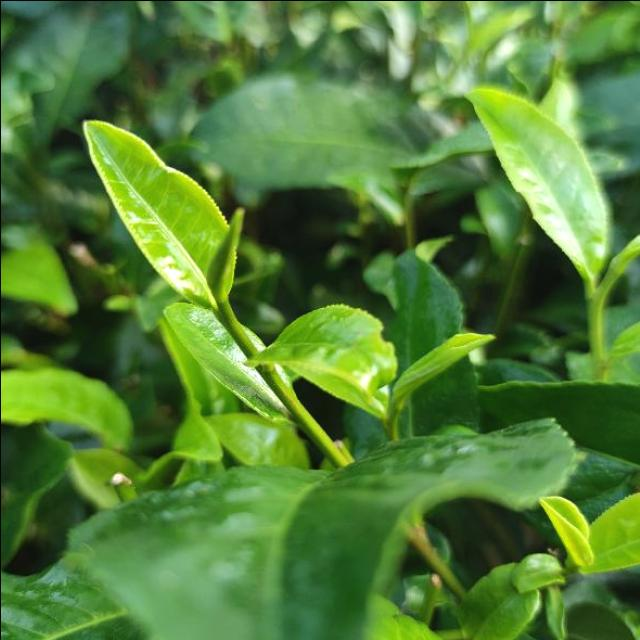Stem: (584, 292, 603, 310), (217, 309, 236, 326)
